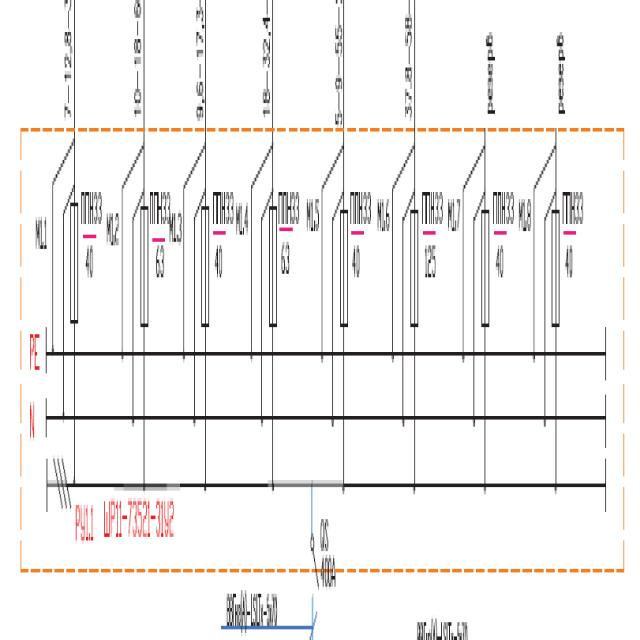-: (102, 494, 176, 548), (210, 185, 236, 295), (349, 185, 375, 295), (146, 182, 172, 292), (277, 183, 303, 293), (80, 176, 105, 286), (419, 185, 444, 295), (561, 183, 586, 293), (490, 185, 515, 295), (319, 553, 338, 595)
FU: (479, 201, 492, 332), (338, 206, 350, 338), (266, 201, 278, 332), (139, 201, 151, 332), (549, 201, 561, 332), (68, 199, 80, 327), (198, 205, 210, 332), (409, 205, 421, 332)
QS: (309, 532, 320, 610)
